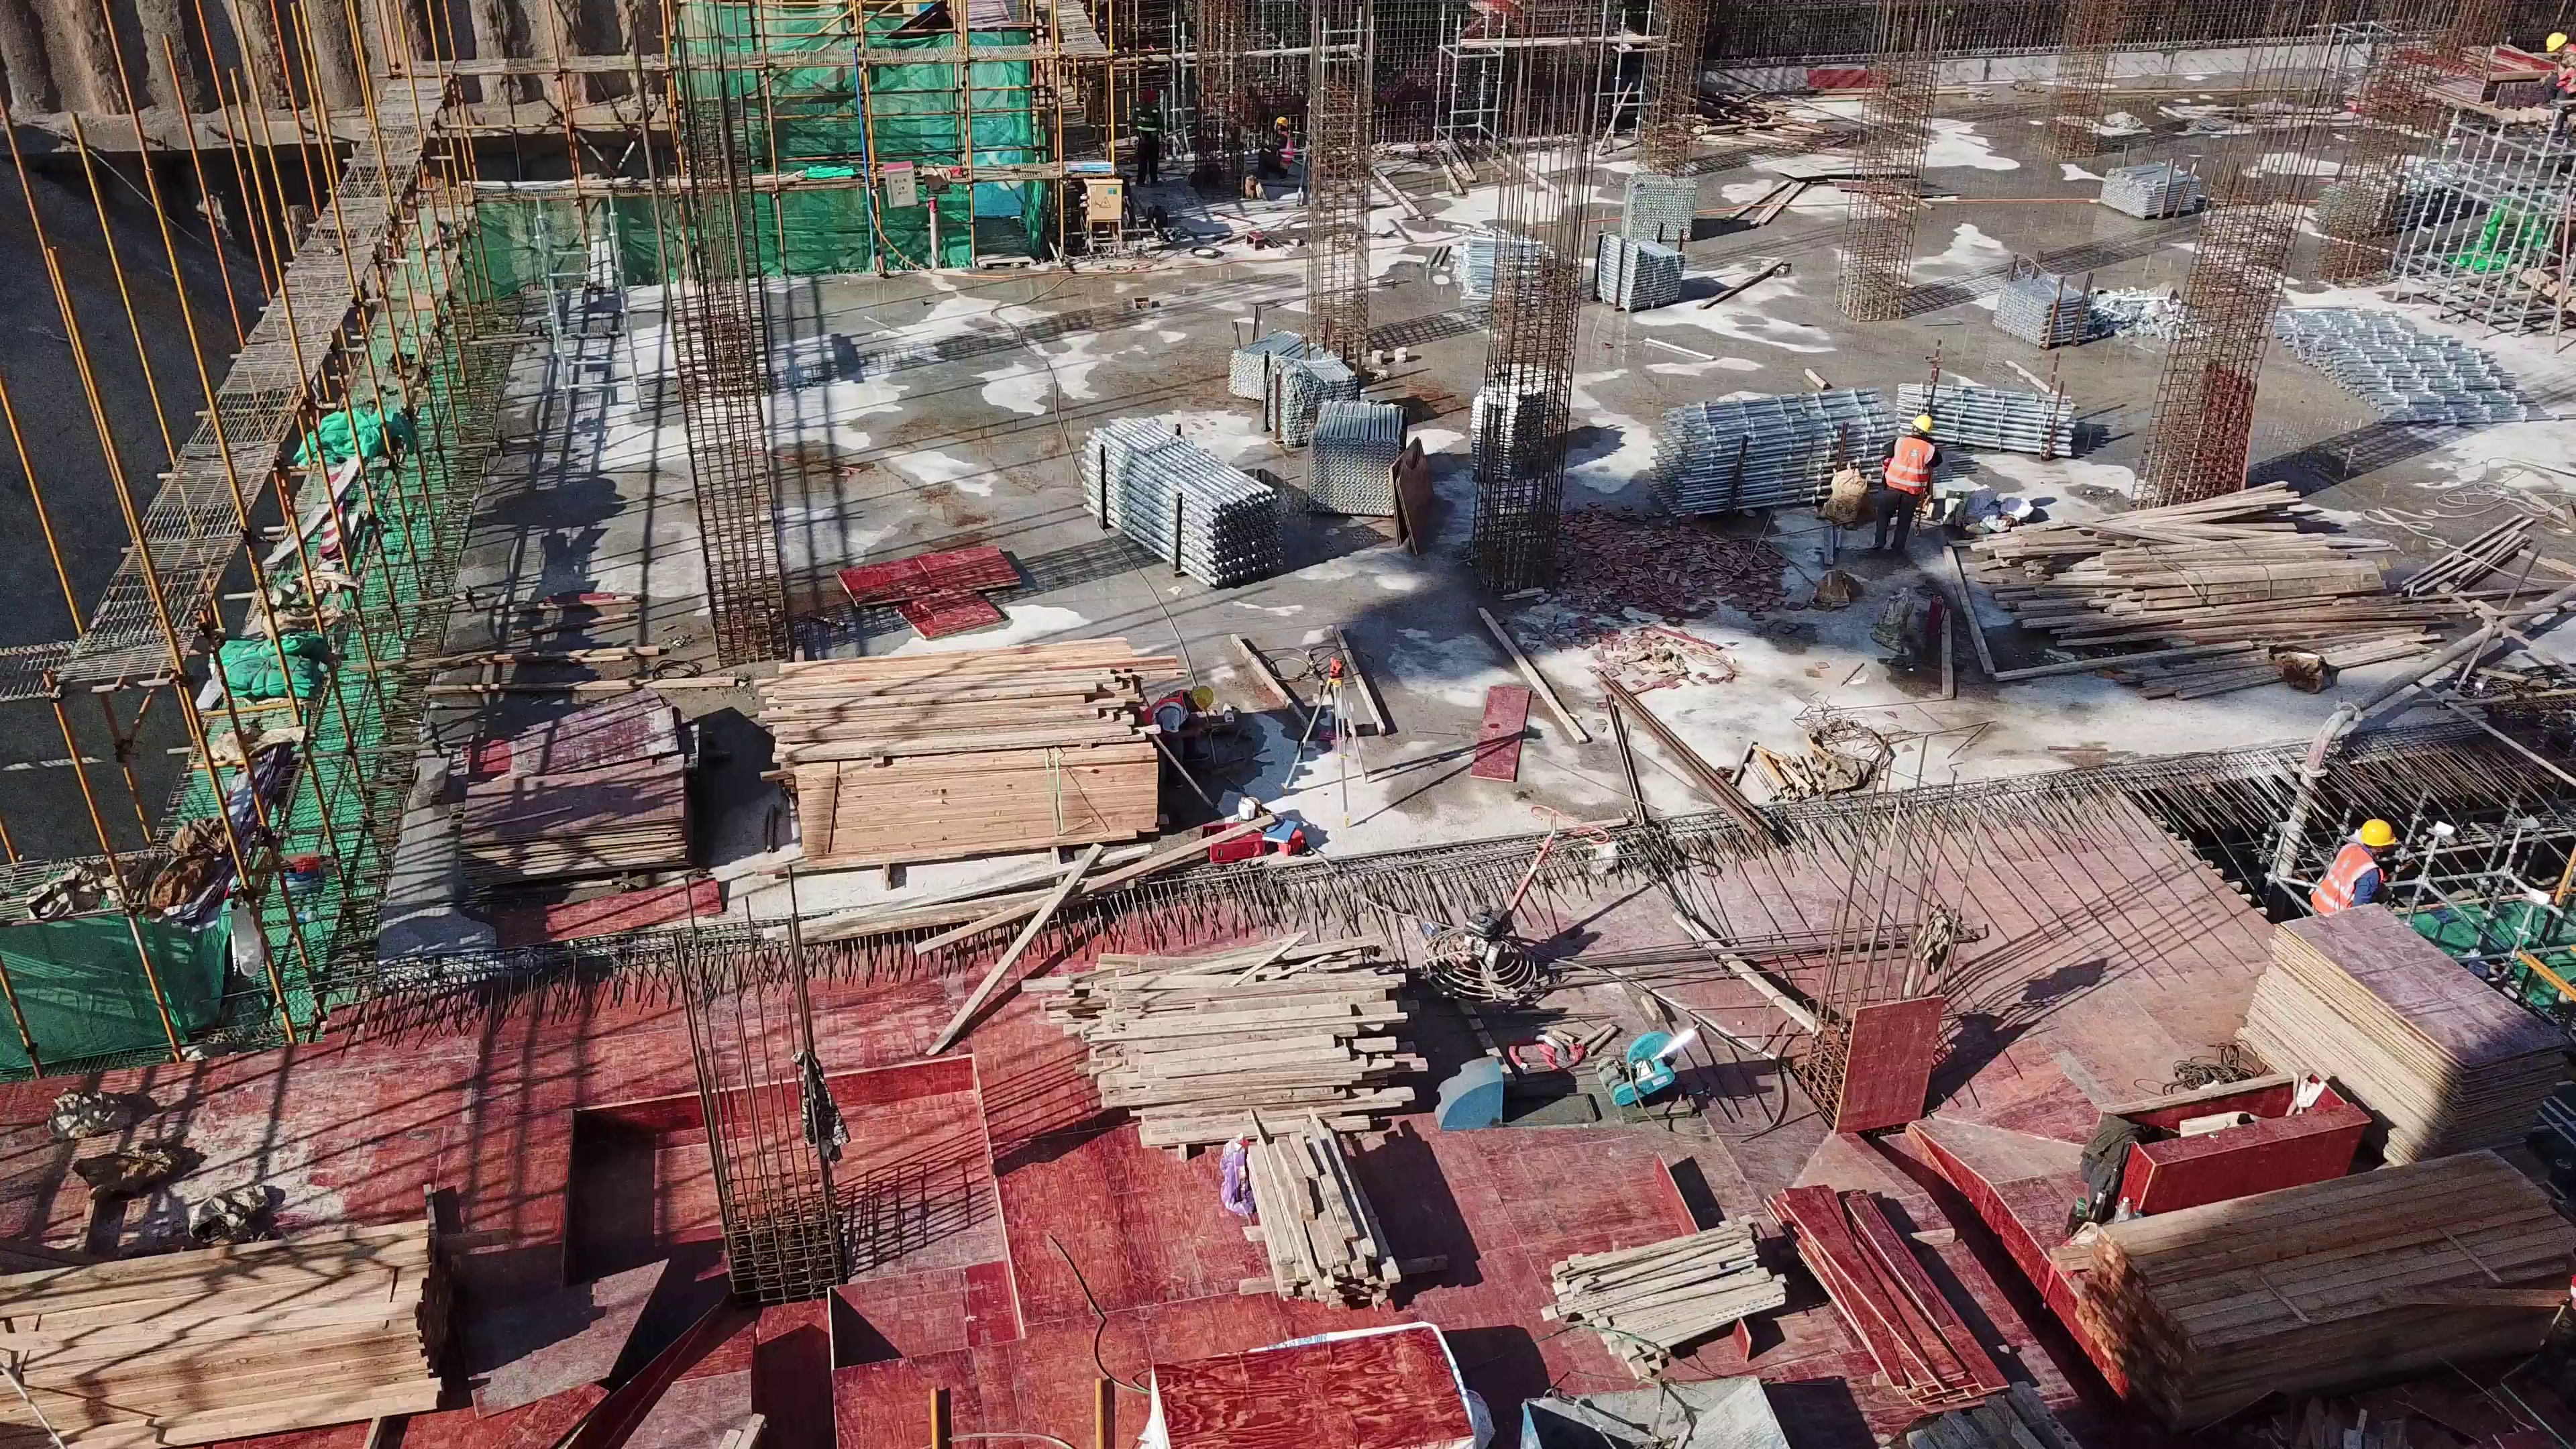board: (2233, 904, 2569, 1165), (1762, 1182, 2013, 1406), (1148, 1320, 1490, 1449), (451, 762, 690, 878), (463, 698, 694, 767)
cutter: (1597, 1020, 1707, 1122)
ebox: (1082, 175, 1124, 256)
helmet: (2361, 820, 2398, 847), (1192, 686, 1215, 710), (1911, 415, 1934, 434), (2545, 32, 2568, 52), (1275, 116, 1289, 128)
person: (1872, 411, 1939, 561), (2310, 816, 2402, 924), (1142, 686, 1215, 789), (1125, 85, 1169, 189), (1253, 114, 1297, 186), (2534, 28, 2576, 101)
scaffold: (1079, 409, 1286, 587), (2271, 307, 2557, 429), (1648, 388, 1901, 517), (1893, 383, 2078, 458), (1305, 399, 1411, 516), (1263, 356, 1356, 451), (1991, 268, 2094, 347), (1592, 233, 1687, 314), (2098, 157, 2200, 221), (1231, 329, 1318, 400), (1622, 172, 1692, 244), (1450, 225, 1501, 300)
vest: (2308, 845, 2381, 918), (1884, 437, 1935, 495)
wood: (1979, 481, 2426, 700), (750, 635, 1164, 851), (1, 1220, 451, 1415), (1020, 935, 1432, 1138), (2078, 1166, 2373, 1432), (1548, 1216, 1786, 1375), (1251, 1128, 1398, 1315)
